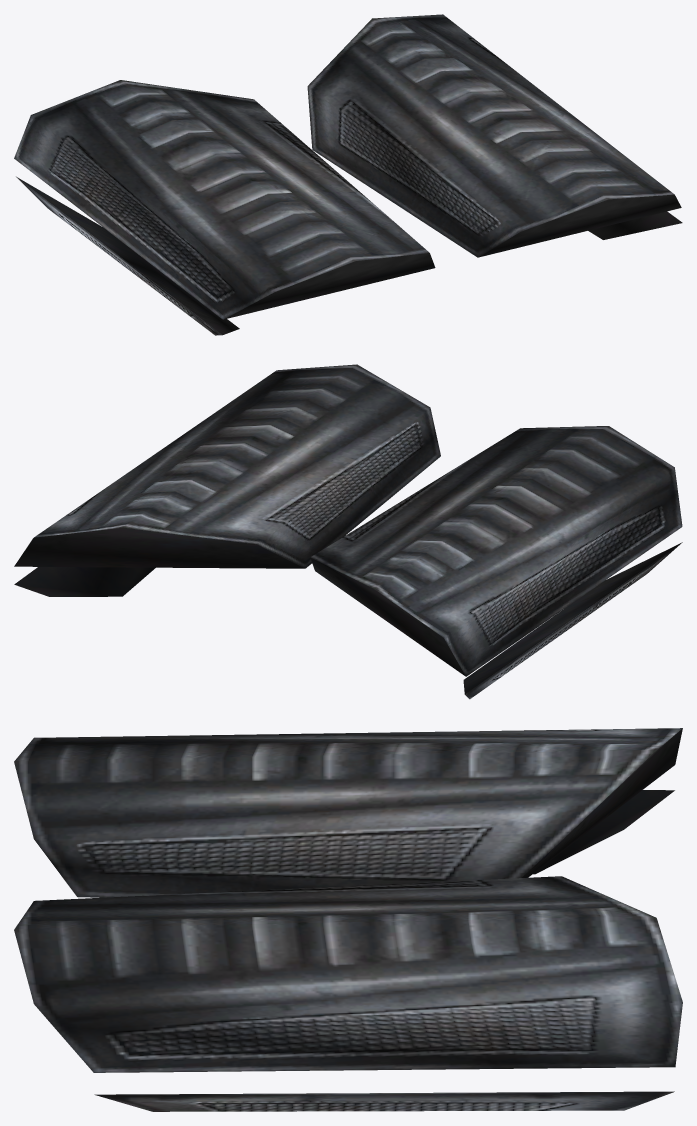
The model's file is LegPads7__EC.glb.
The picture shows the model from 3 angles, top to bottom: view 1: azimuth 30°, elevation 25°; view 2: azimuth 150°, elevation 25°; view 3: azimuth 270°, elevation 25°; orthographic projection. The views are drawn at different scales.
Visible parts, largest first — view 1: LegPads7; view 2: LegPads7; view 3: LegPads7.
Boxes of the visible parts, box(x1,y1,x2,y2) form: LegPads7: box(14, 14, 682, 335); LegPads7: box(14, 364, 682, 699); LegPads7: box(14, 728, 682, 1111).
Size of the model in its own units: 20.86 by 4.9 by 19.26.
1 material, 1 textured.
